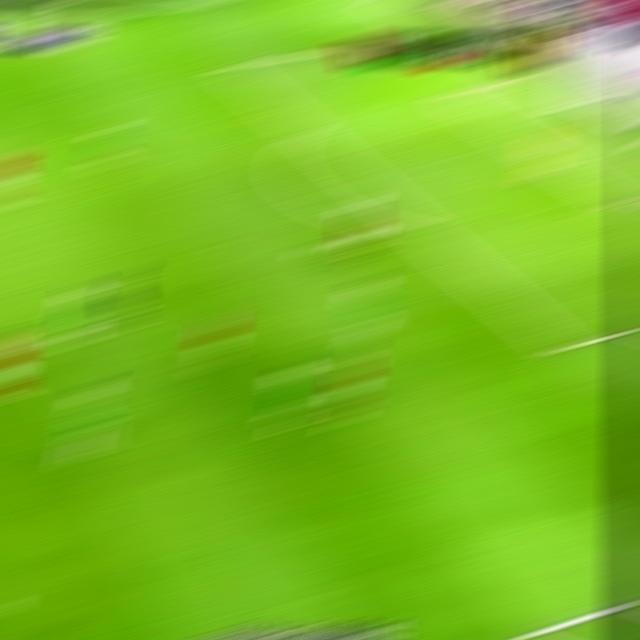bigarea_bottom_inner: (545, 338, 583, 360)
bigarea_top_inner: (216, 60, 246, 72)
bottom_arc_area_intersection: (404, 224, 435, 235)
smallarea_bottom_inner: (603, 192, 638, 210)
smallarea_top_inner: (432, 90, 462, 99)
smallarea_top_outter: (502, 76, 533, 85)
top_arc_area_intersection: (291, 126, 321, 136)
